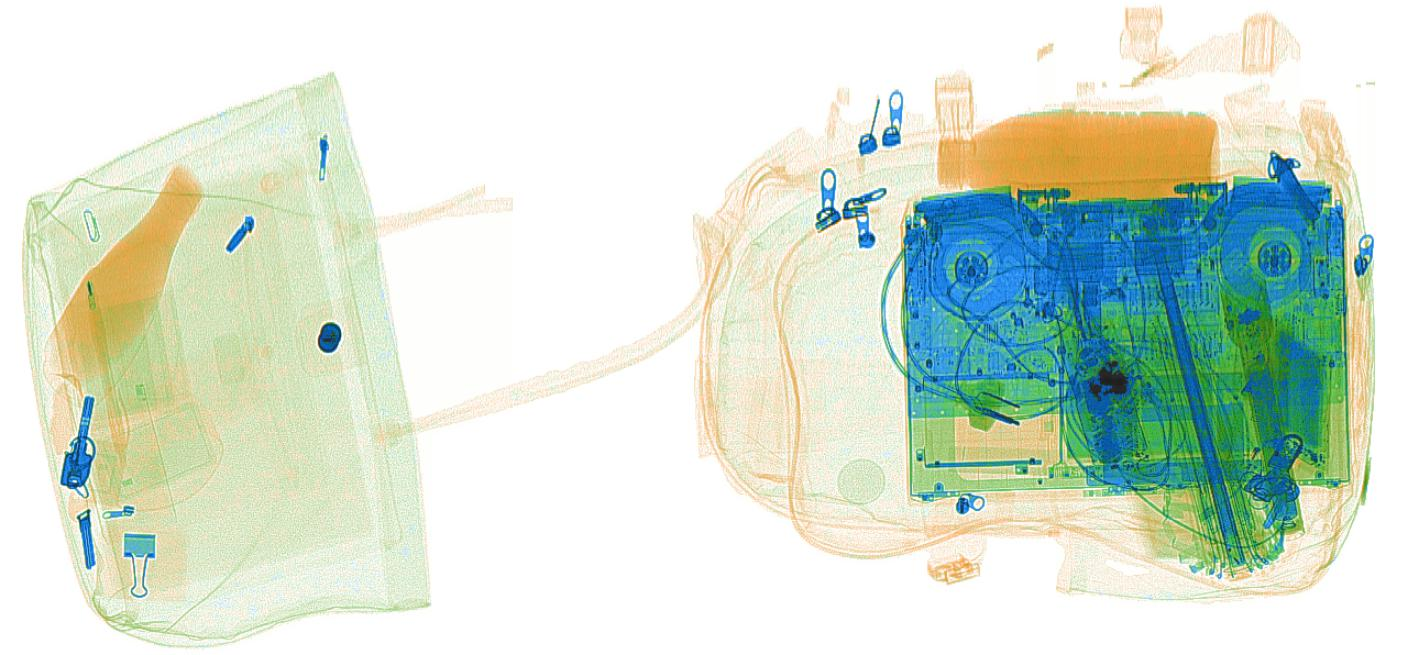battery: (1239, 365, 1296, 520)
lighter: (1234, 419, 1290, 487)
